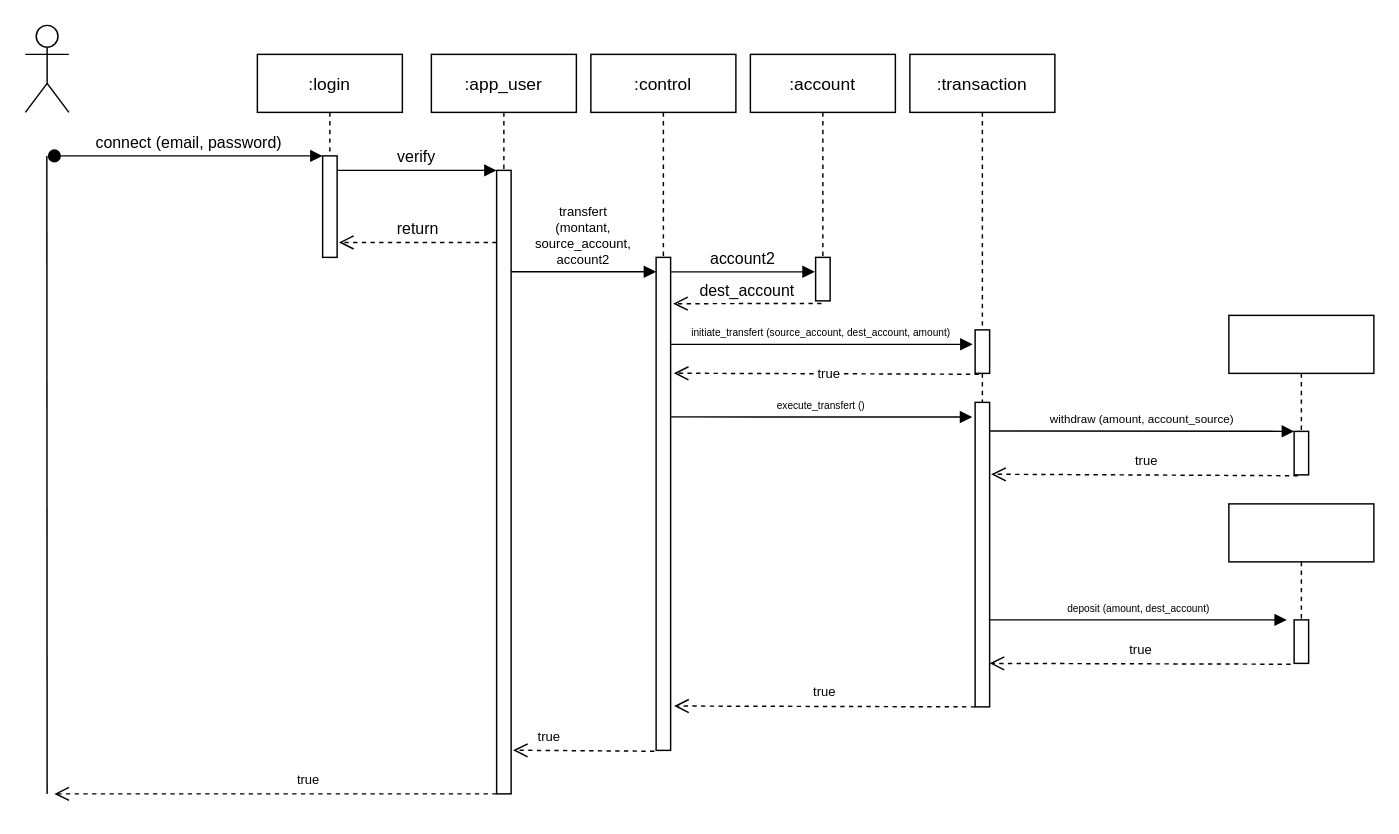
The diagram is 1399 pixels wide and 834 high, and some of its shapes have lost their labels. Each missing label, with the centre of its shape:
c1 : account: point 1300,394
c2 : account: point 1300,582
client: point 46,68
